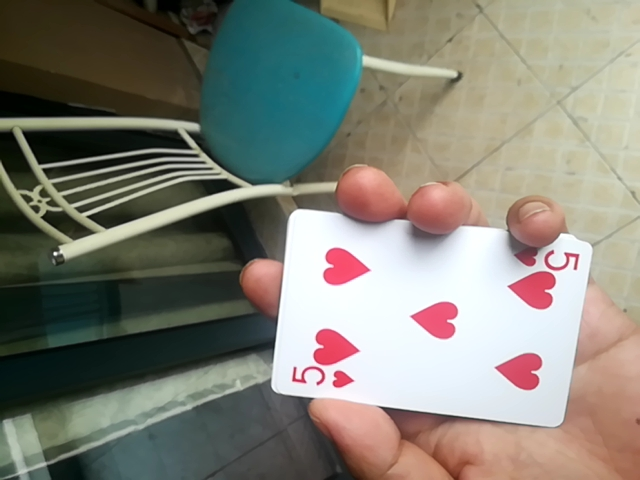hx 5: (276, 216, 589, 429)
